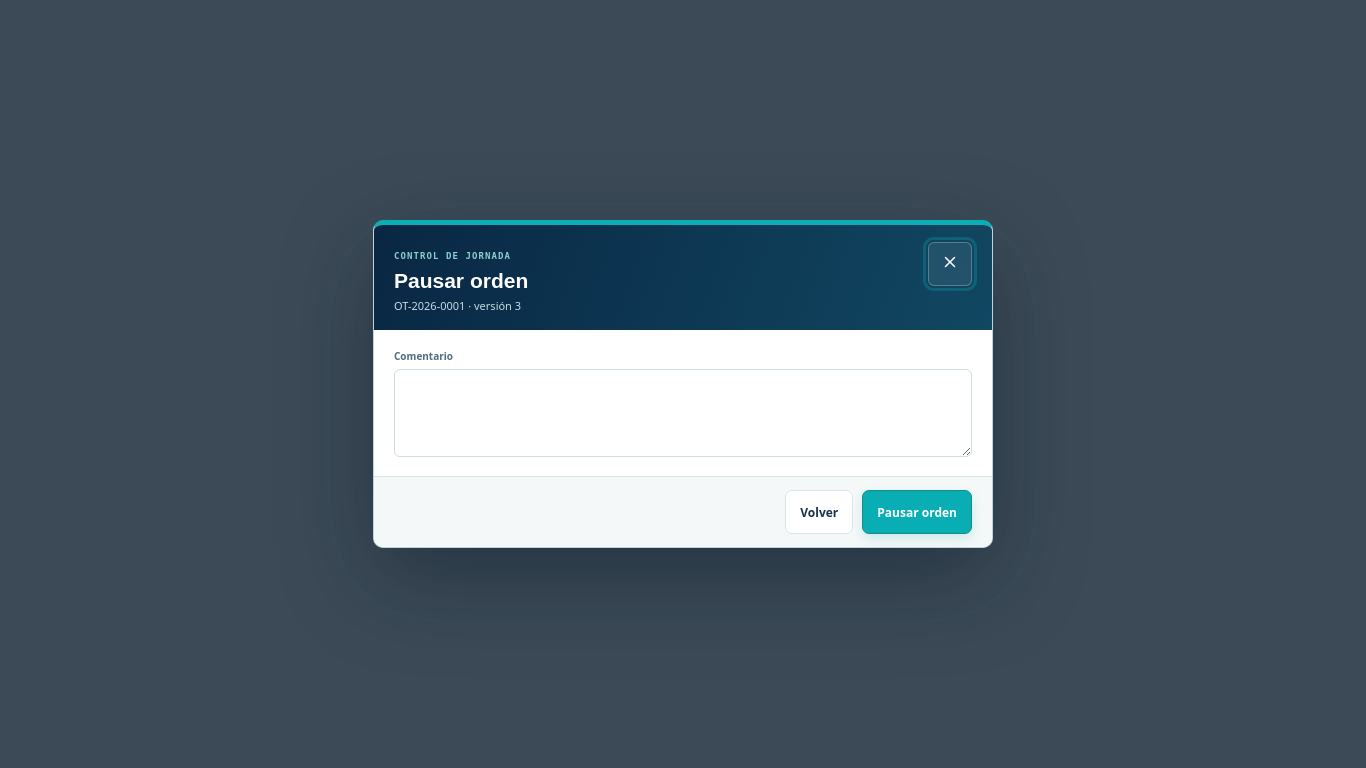
OrderActionDialog › requires a ten-character comment before pausing
Type "breve" into the text box labelled "Comentario". click: (683, 413)
box: [394,369,972,457]
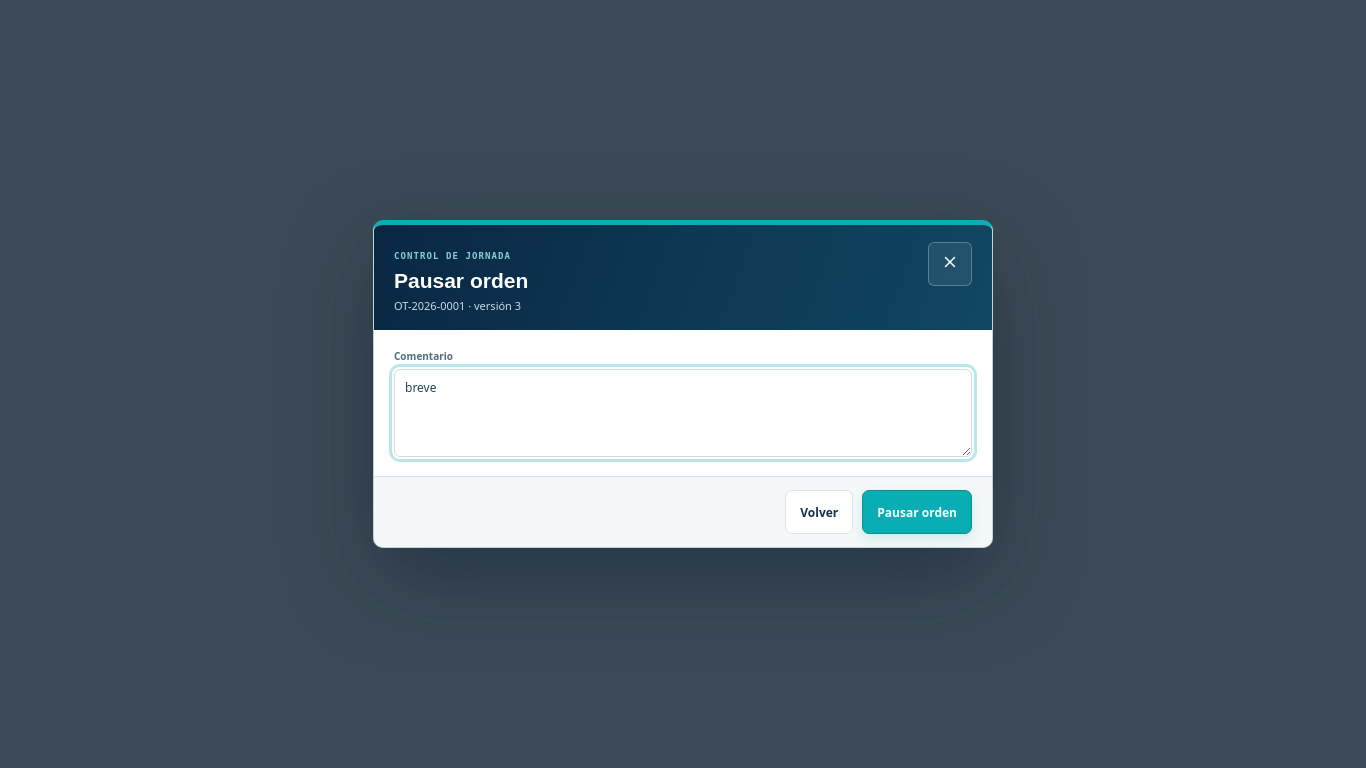
Click the button "Pausar orden". click: (917, 512)
box: [862,490,972,534]
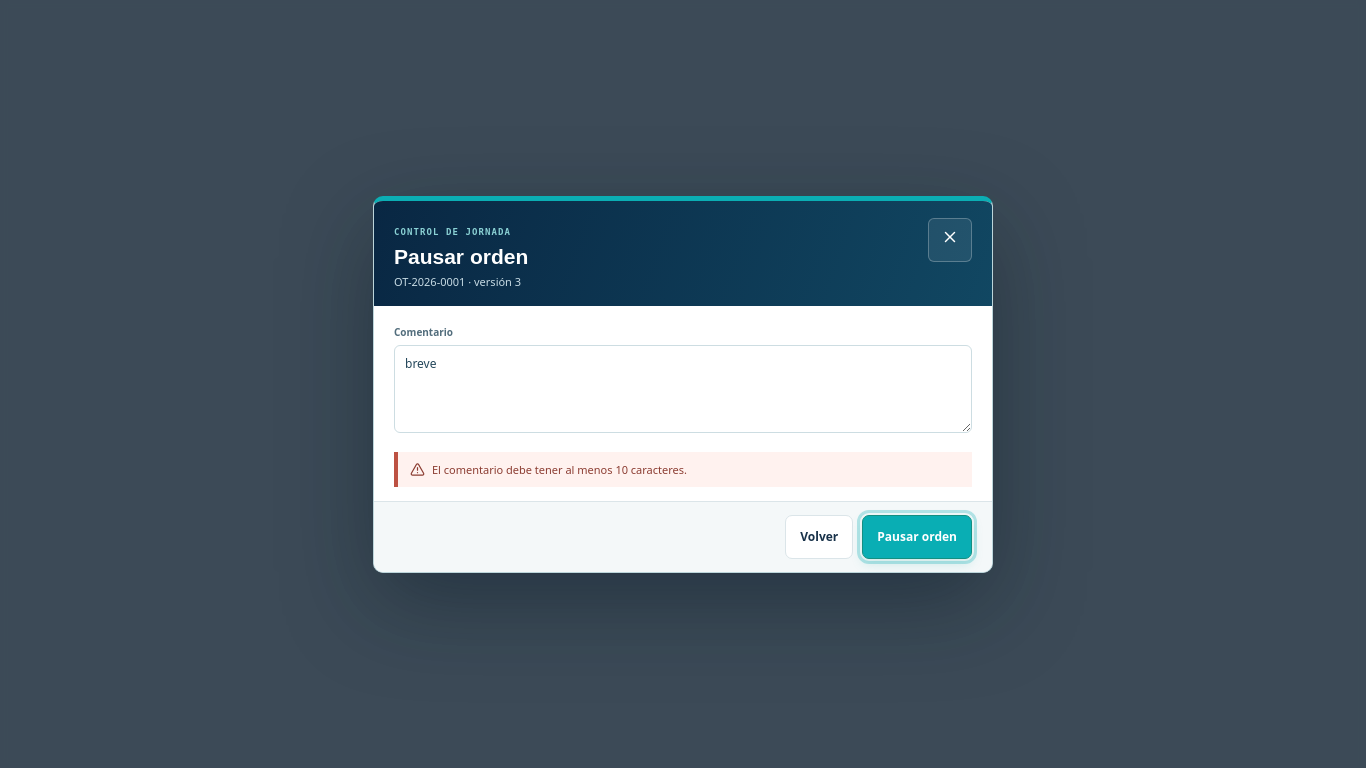
Now the message shows "10 caracteres", box [432,462,687,476]
